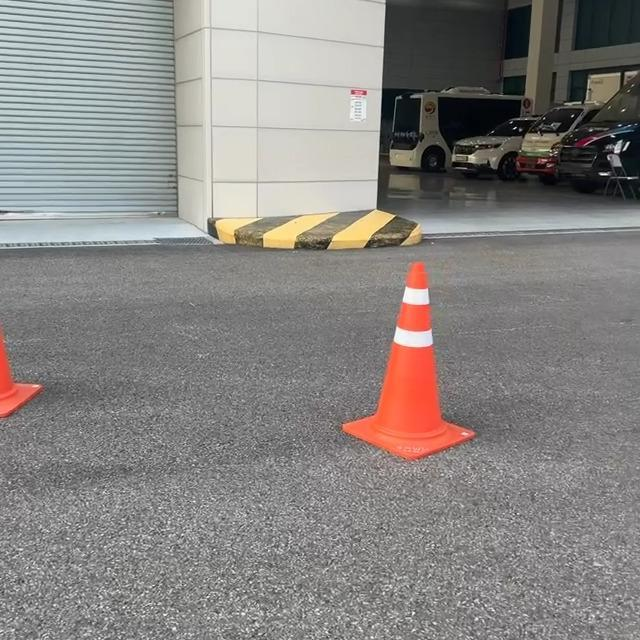fallen_object: (346, 260, 556, 481), (0, 290, 81, 453)
